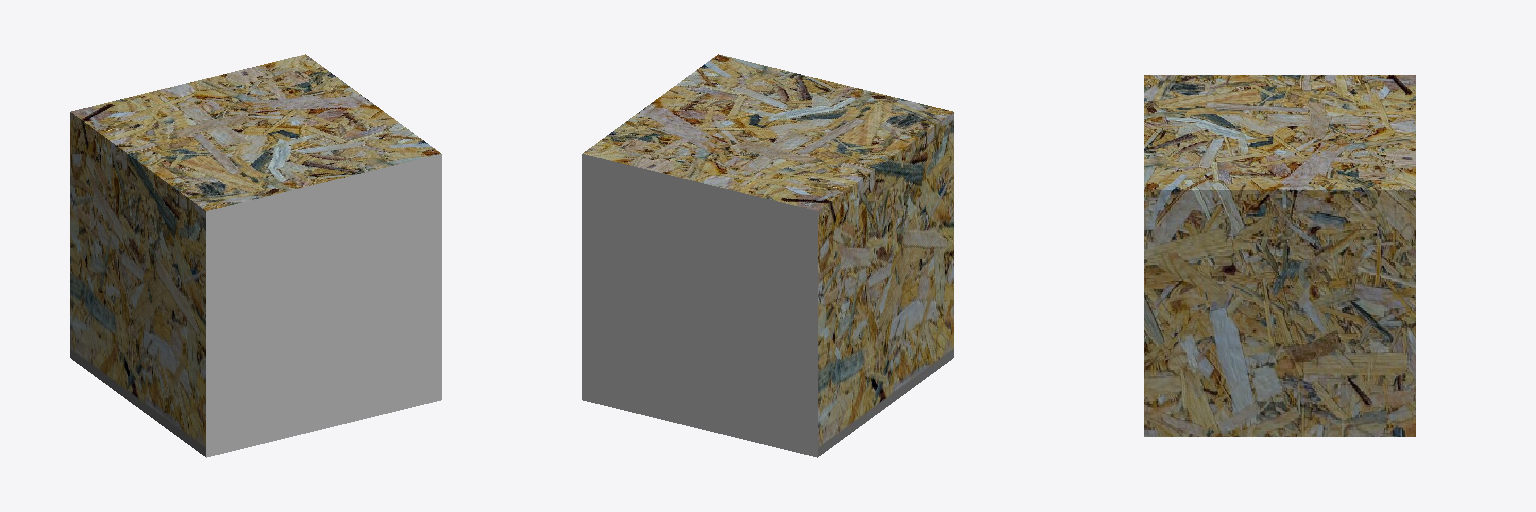
3 views of the same model, side by side, from view 1: azimuth 30°, elevation 25°; view 2: azimuth 150°, elevation 25°; view 3: azimuth 270°, elevation 25° (orthographic).
Visible parts, largest first — view 1: Cube; view 2: Cube; view 3: Cube.
Boxes of the visible parts, x1=… form: Cube: x1=70, y1=54, x2=441, y2=457; Cube: x1=582, y1=54, x2=953, y2=457; Cube: x1=1144, y1=75, x2=1415, y2=436.
Size of the model in its own units: 1 by 1 by 1.
2 materials, 1 textured.